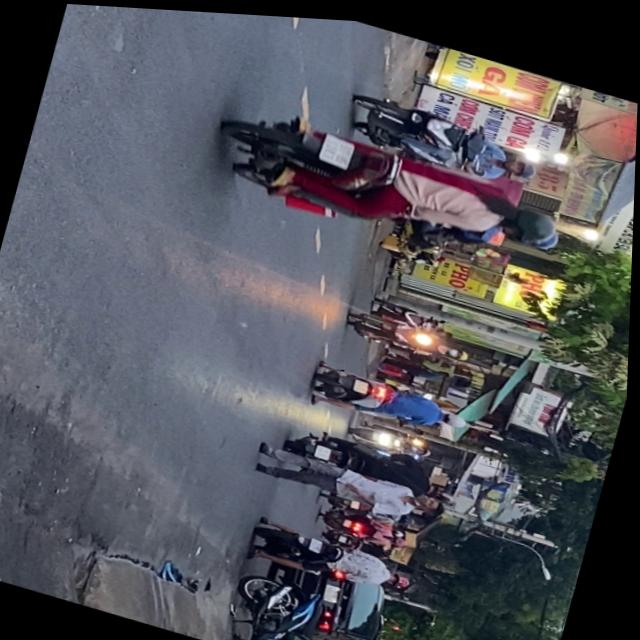helmet: (502, 194, 562, 236), (513, 211, 563, 247), (502, 149, 539, 173), (390, 564, 417, 585), (442, 403, 470, 423)
licenseplate: (203, 89, 578, 278), (341, 81, 548, 187), (249, 512, 422, 598), (308, 354, 476, 438)
nohelmet: (318, 129, 356, 165), (311, 533, 327, 549), (355, 373, 371, 389)
